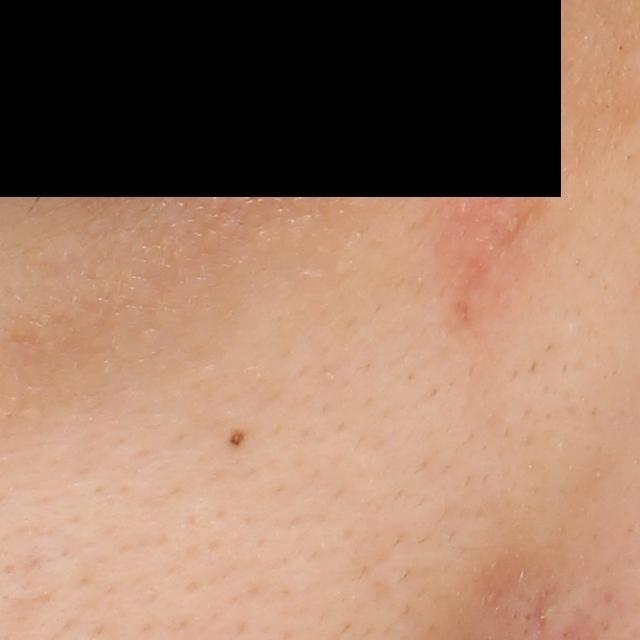nevus: (227, 426, 249, 450)
